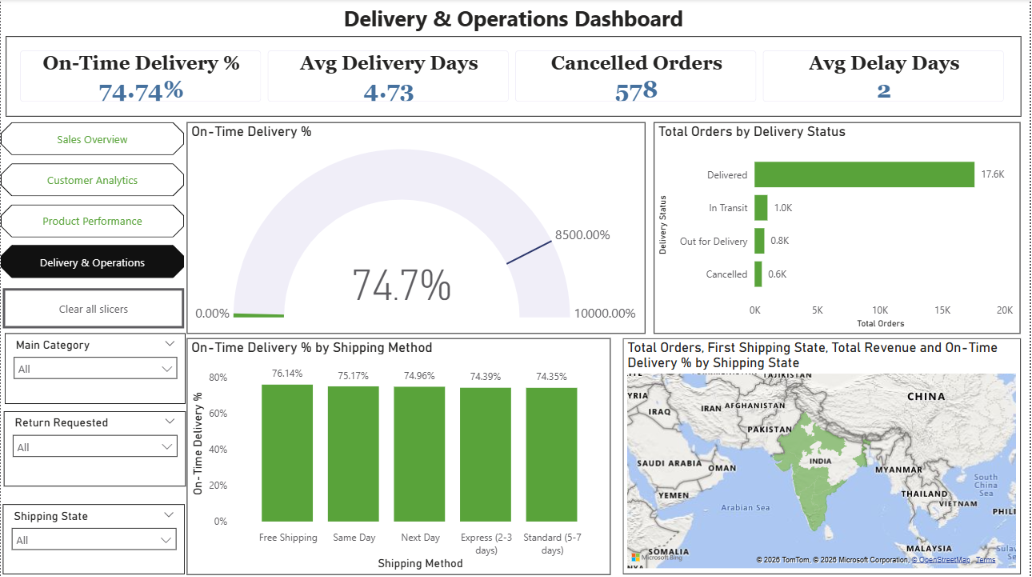

What the dashboard file says about the page in this screenshot:
{"tool":"powerbi","page":{"name":"Delivery & Operations","canvas":[1280,720],"ordinal":3},"visuals":[{"type":"cardVisual","fields":{"Data":["Table.On-Time Delivery %","Table.Avg Delivery Days","Table.Cancelled Orders","Table.Avg Delay Days"]},"box":[5.7,45.7,1262.9,100],"z":0},{"type":"textbox","box":[5.7,0,1262.9,45.7],"z":1000},{"type":"gauge","fields":{"Y":["Table.On-Time Delivery %"]},"box":[231.4,152.9,570,262.9],"z":2000},{"type":"clusteredBarChart","fields":{"Category":["Ecommerce Orders.Delivery Status"],"Y":["Table.Total Orders"]},"box":[812.9,152.9,455.7,262.9],"z":3000},{"type":"clusteredColumnChart","fields":{"Category":["Ecommerce Orders.Shipping Method"],"Y":["Table.On-Time Delivery %"]},"box":[231.4,421.4,527.1,294.3],"z":4000},{"type":"filledMap","fields":{"Category":["Ecommerce Orders.Shipping State"]},"box":[773.3,421.7,495,293.3],"z":5000},{"type":"slicer","fields":{"Values":["Ecommerce Orders.Main Category"]},"box":[5,415.5,225.2,88.3],"z":6000},{"type":"actionButton","box":[2.9,360,225.7,50],"z":7000},{"type":"pageNavigator","box":[0,152.9,228.6,195.7],"z":8000},{"type":"slicer","fields":{"Values":["Ecommerce Orders.Shipping State"]},"box":[2.5,628.2,226.4,87.1],"z":9000},{"type":"slicer","fields":{"Values":["Ecommerce Orders.Return Requested"]},"box":[3.7,512.5,226.4,93.3],"z":10000}]}

Visuals, with their boxes in screenshot pixels (x1, y1, x2, y2), scaled from the page's 1280x720 canvas onto the 1032x577 screenshot:
cardVisual - Table.On-Time Delivery % x Table.Avg Delivery Days: 5:37:1023:117
textbox: 5:0:1023:37
gauge - Table.On-Time Delivery %: 187:123:646:333
clusteredBarChart - Ecommerce Orders.Delivery Status x Table.Total Orders: 655:123:1023:333
clusteredColumnChart - Ecommerce Orders.Shipping Method x Table.On-Time Delivery %: 187:338:612:574
filledMap - Ecommerce Orders.Shipping State: 623:338:1023:573
slicer - Ecommerce Orders.Main Category: 4:333:186:404
actionButton: 2:288:184:329
pageNavigator: 0:123:184:279
slicer - Ecommerce Orders.Shipping State: 2:503:185:573
slicer - Ecommerce Orders.Return Requested: 3:411:186:485
